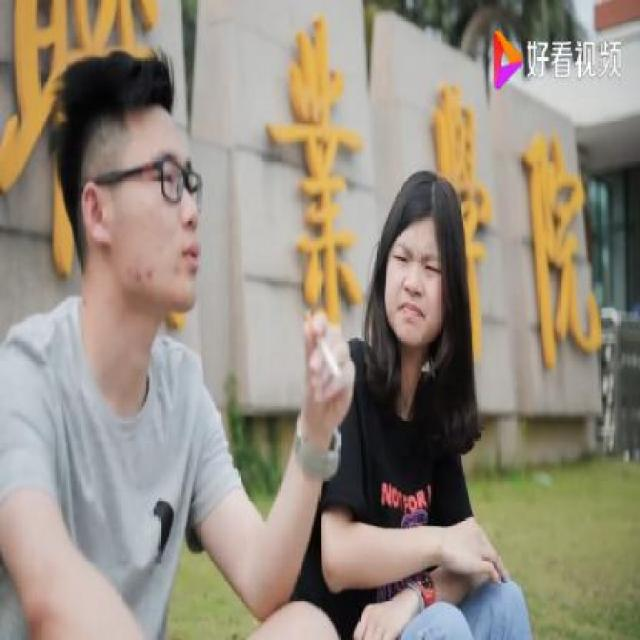smoke: (302, 300, 348, 395)
